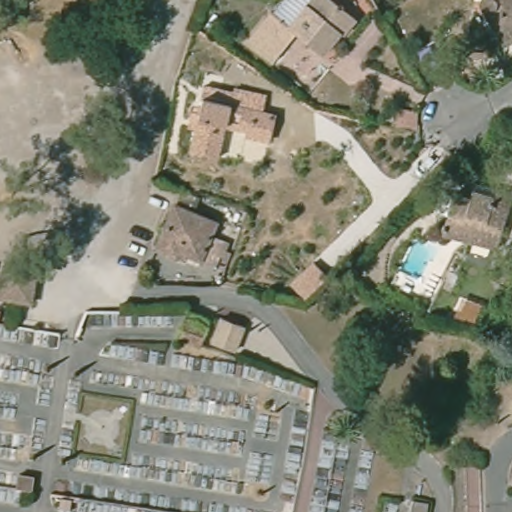pool: (400, 240, 435, 277)
